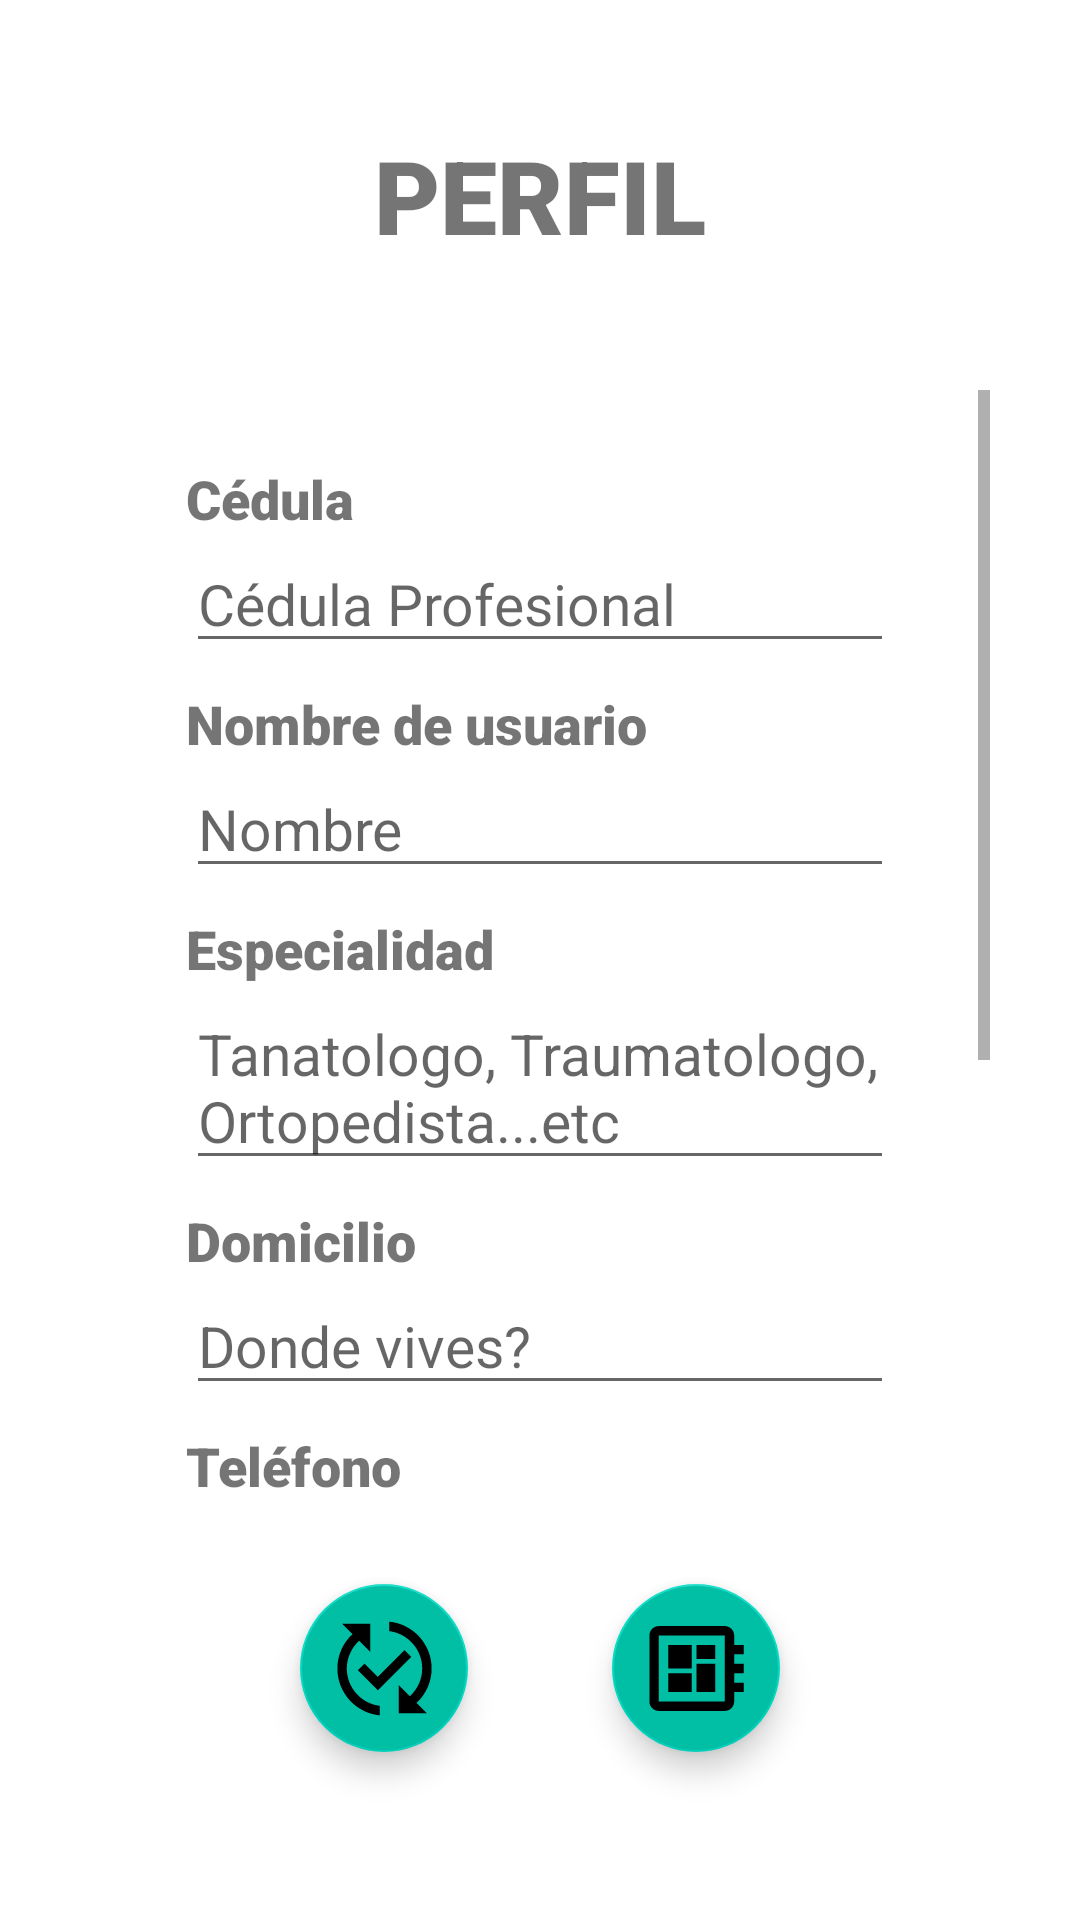

Icon bounding boxes for this 1080 × 1920 phone screenshot, format (x1, y1, x2, y2):
news: (612, 1584, 780, 1752)
